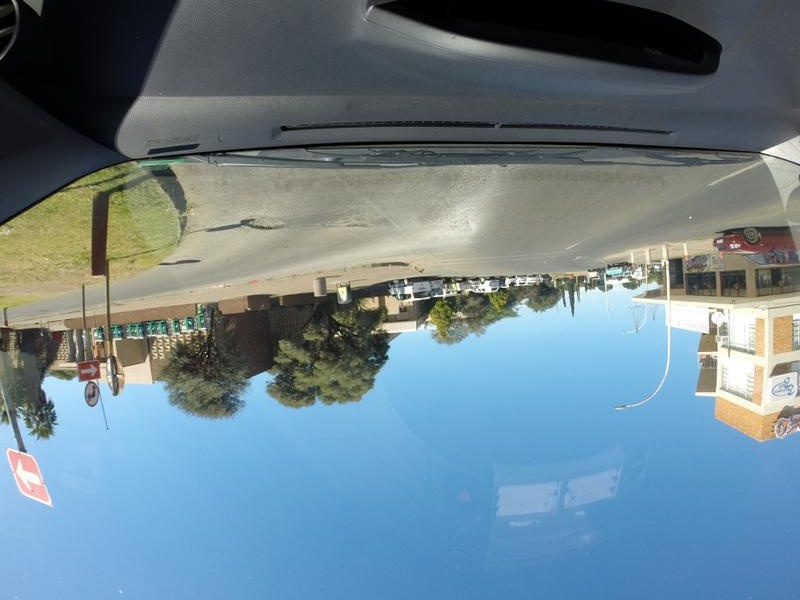pothole: (234, 214, 288, 234), (326, 216, 369, 229)
